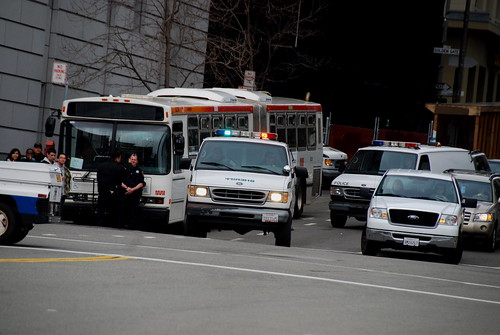building: (1, 1, 207, 139), (433, 1, 500, 139)
bus: (60, 93, 330, 212)
car: (367, 168, 471, 267)
police car: (188, 126, 299, 244)
street: (4, 222, 500, 335)
